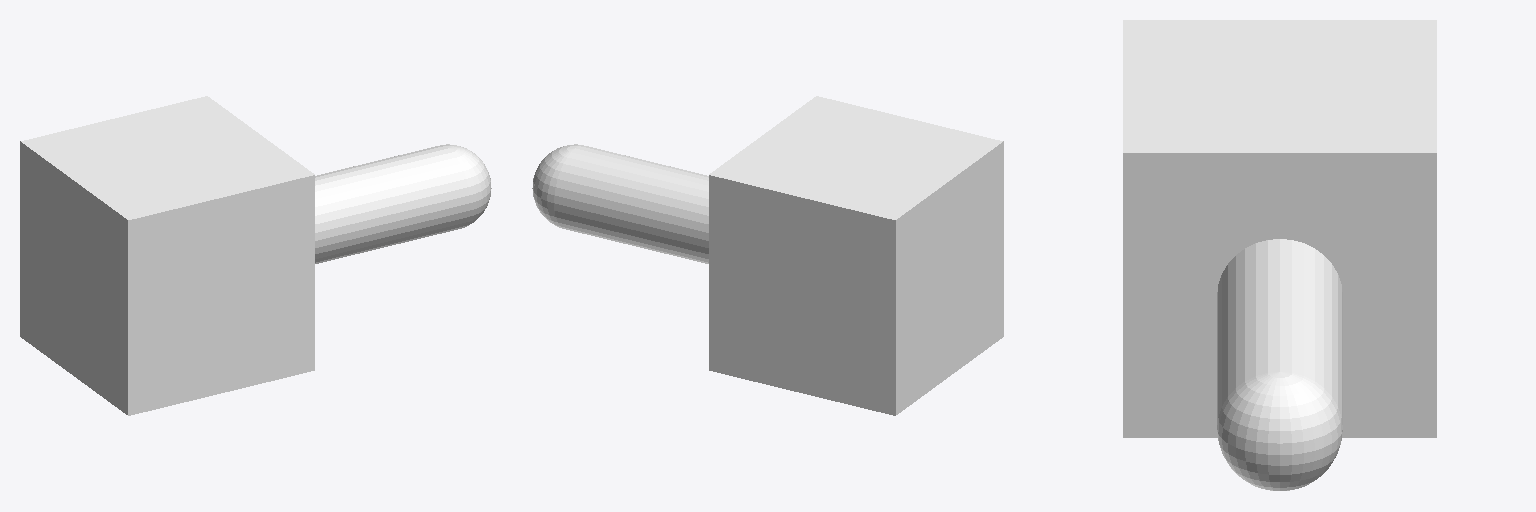
URDF robot description (chair):
<?xml version="1.0" ?>
<robot name="chair">

    <material name="color">
        <color rgba="1.0 1.0 1.0 1.0"/>
    </material>

    <link name="handle">
        <visual>
            <origin xyz="0 0 0" rpy="0 0 0"/>
            <geometry>
                <box size="0.05 0.05 0.05"/>
            </geometry>
            <material name="color"/>
        </visual>
        <collision>
            <origin xyz="0 0 0" rpy="0 0 0"/>
            <geometry>
                <box size="0.05 0.05 0.05"/>
            </geometry>
        </collision>
        <contact>
            <rolling_friction value="0.001"/>
            <spinning_friction value="0.001"/>
        </contact>
        <inertial>
            <origin rpy="0 0 0" xyz="0 0 0"/>
            <mass value="1"/>
            <inertia ixx="1" ixy="0" ixz="0" iyy="1" iyz="0" izz="1"/>
        </inertial>
    </link>

    <link name="tool">
        <visual>
            <origin xyz="0.05 0 0" rpy="0 1.5708 0"/>
            <geometry>
                <cylinder length="0.05" radius="0.01"/>
            </geometry>
            <material name="color"/>
        </visual>
        <collision>
            <origin xyz="0.05 0 0" rpy="0 1.5708 0"/>
            <geometry>
                <cylinder length="0.05" radius="0.01"/>
            </geometry>
        </collision>
        <contact>
            <rolling_friction value="0.001"/>
            <spinning_friction value="0.001"/>
        </contact>
        <inertial>
            <origin rpy="0 0 0" xyz="0 0 0"/>
            <mass value="1"/>
            <inertia ixx="1" ixy="0" ixz="0" iyy="1" iyz="0" izz="1"/>
        </inertial>
    </link>

    <link name="tool_tip">
        <visual>
            <origin xyz="0 0 0" rpy="0 0 0"/>
            <geometry>
                <sphere radius="0.01"/>
            </geometry>
            <material name="color"/>
        </visual>
        <collision>
            <origin xyz="0 0 0" rpy="0 0 0"/>
            <geometry>
                <sphere radius="0.01"/>
            </geometry>
        </collision>
        <contact>
            <rolling_friction value="0.001"/>
            <spinning_friction value="0.001"/>
        </contact>
        <inertial>
            <origin rpy="0 0 0" xyz="0 0 0"/>
            <mass value="1"/>
            <inertia ixx="1" ixy="0" ixz="0" iyy="1" iyz="0" izz="1"/>
        </inertial>
    </link>

    <joint name="j_weld1" type="fixed">
        <parent link="handle"/>
        <child link="tool"/>
        <origin xyz="0 0 0"/>
    </joint>
    <joint name="j_weld2" type="fixed">
        <parent link="tool"/>
        <child link="tool_tip"/>
        <origin xyz="0.075 0 0"/>
    </joint>

</robot>

--- Render facts (derived) ---
Views: 3 orthographic renders of the robot side by side, from view 1: azimuth 30°, elevation 25°; view 2: azimuth 150°, elevation 25°; view 3: azimuth 270°, elevation 25°.
Robot: chair — 3 links, 2 joints (2 fixed); root link handle; default pose: every joint at zero.
Visible links, largest first — view 1: handle, tool, tool_tip; view 2: handle, tool, tool_tip; view 3: handle, tool, tool_tip.
Boxes of the visible links, left/top/right/bottom form: handle: left=20, top=96, right=314, bottom=415; tool: left=315, top=145, right=469, bottom=263; tool_tip: left=441, top=144, right=491, bottom=228; handle: left=709, top=96, right=1003, bottom=415; tool: left=554, top=145, right=708, bottom=263; tool_tip: left=532, top=144, right=582, bottom=228; handle: left=1123, top=20, right=1436, bottom=437; tool: left=1217, top=239, right=1342, bottom=424; tool_tip: left=1217, top=372, right=1342, bottom=490.
Bounding box of the posed robot: 0.11 × 0.05 × 0.05 m (x, y, z).
Geometry: primitives only (box / cylinder / sphere), no mesh files.
